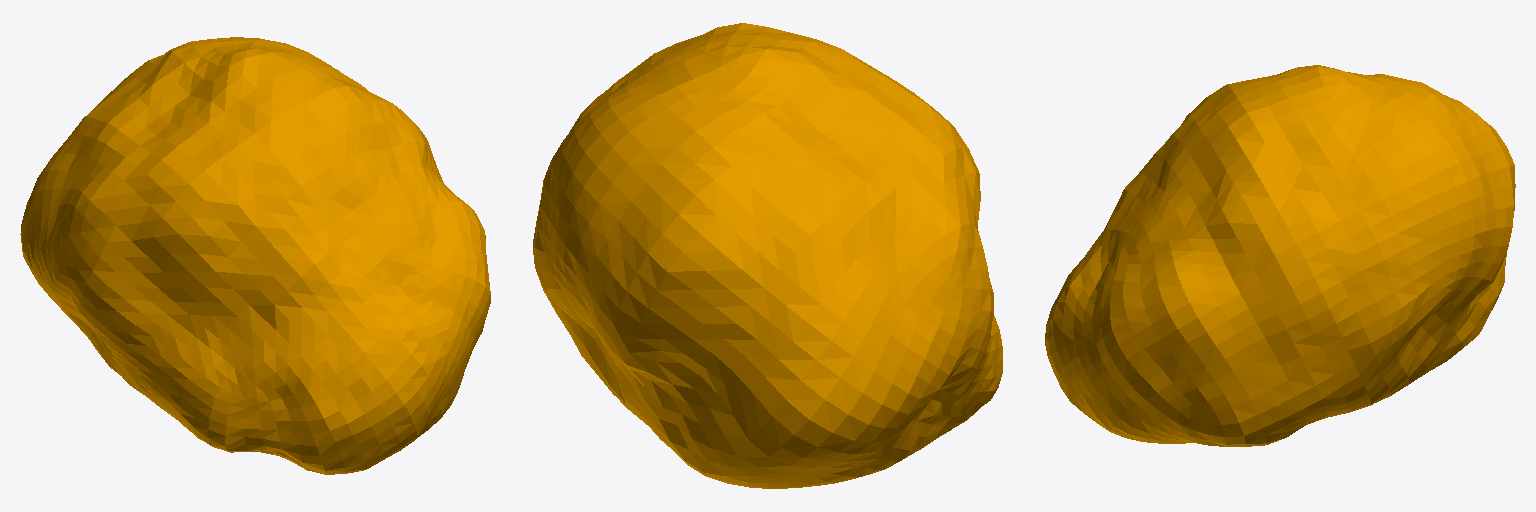
robot.urdf — rock:
<?xml version="1.0" ?>
<robot name="rock">
  <link name="rock">
    <inertial>
      <mass value="0.242"/>
      <origin rpy="0 0 0" xyz="0 0 0"/>
      <inertia ixx="0.000242" ixy="0" ixz="0" iyy="0.000242" iyz="0" izz="0.000242"/>
    </inertial>
    <collision name="rock_collision">
      <origin rpy="0 0 0" xyz="0 0 0"/>
      <geometry>
        <mesh filename="package://rocks/visual/165.dae" scale="1 1 1"/>
      </geometry>
    </collision>
    <visual name="rock_visual">
      <origin rpy="0 0 0" xyz="0 0 0"/>
      <geometry>
        <mesh filename="package://rocks/visual/165.dae" scale="1 1 1"/>
      </geometry>
    </visual>
  </link>
</robot>

--- Render facts (derived) ---
The picture shows the robot from 3 angles, left to right: view 1: azimuth 30°, elevation 25°; view 2: azimuth 150°, elevation 25°; view 3: azimuth 270°, elevation 25°; orthographic projection.
Robot: rock — 1 links, 0 joints (none); root link rock; default pose: all joints at 0.
Visible links, largest first — view 1: rock; view 2: rock; view 3: rock.
Link boxes in pixels (x1,y1,x2,y2): rock: [20, 37, 490, 474]; rock: [533, 23, 1002, 488]; rock: [1045, 65, 1515, 446].
Bounding box of the posed robot: 0.0666 × 0.076 × 0.063 m (x, y, z).
Meshes: 1 distinct files referenced, 1 mesh visuals loaded (1 Collada DAE).